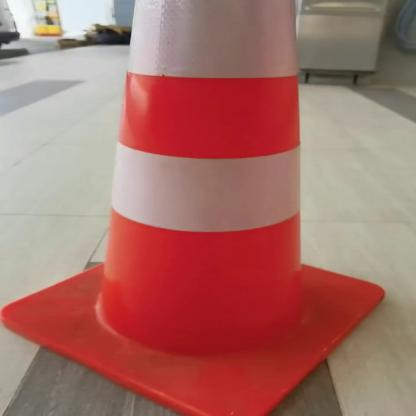cone: (1, 0, 390, 416)
